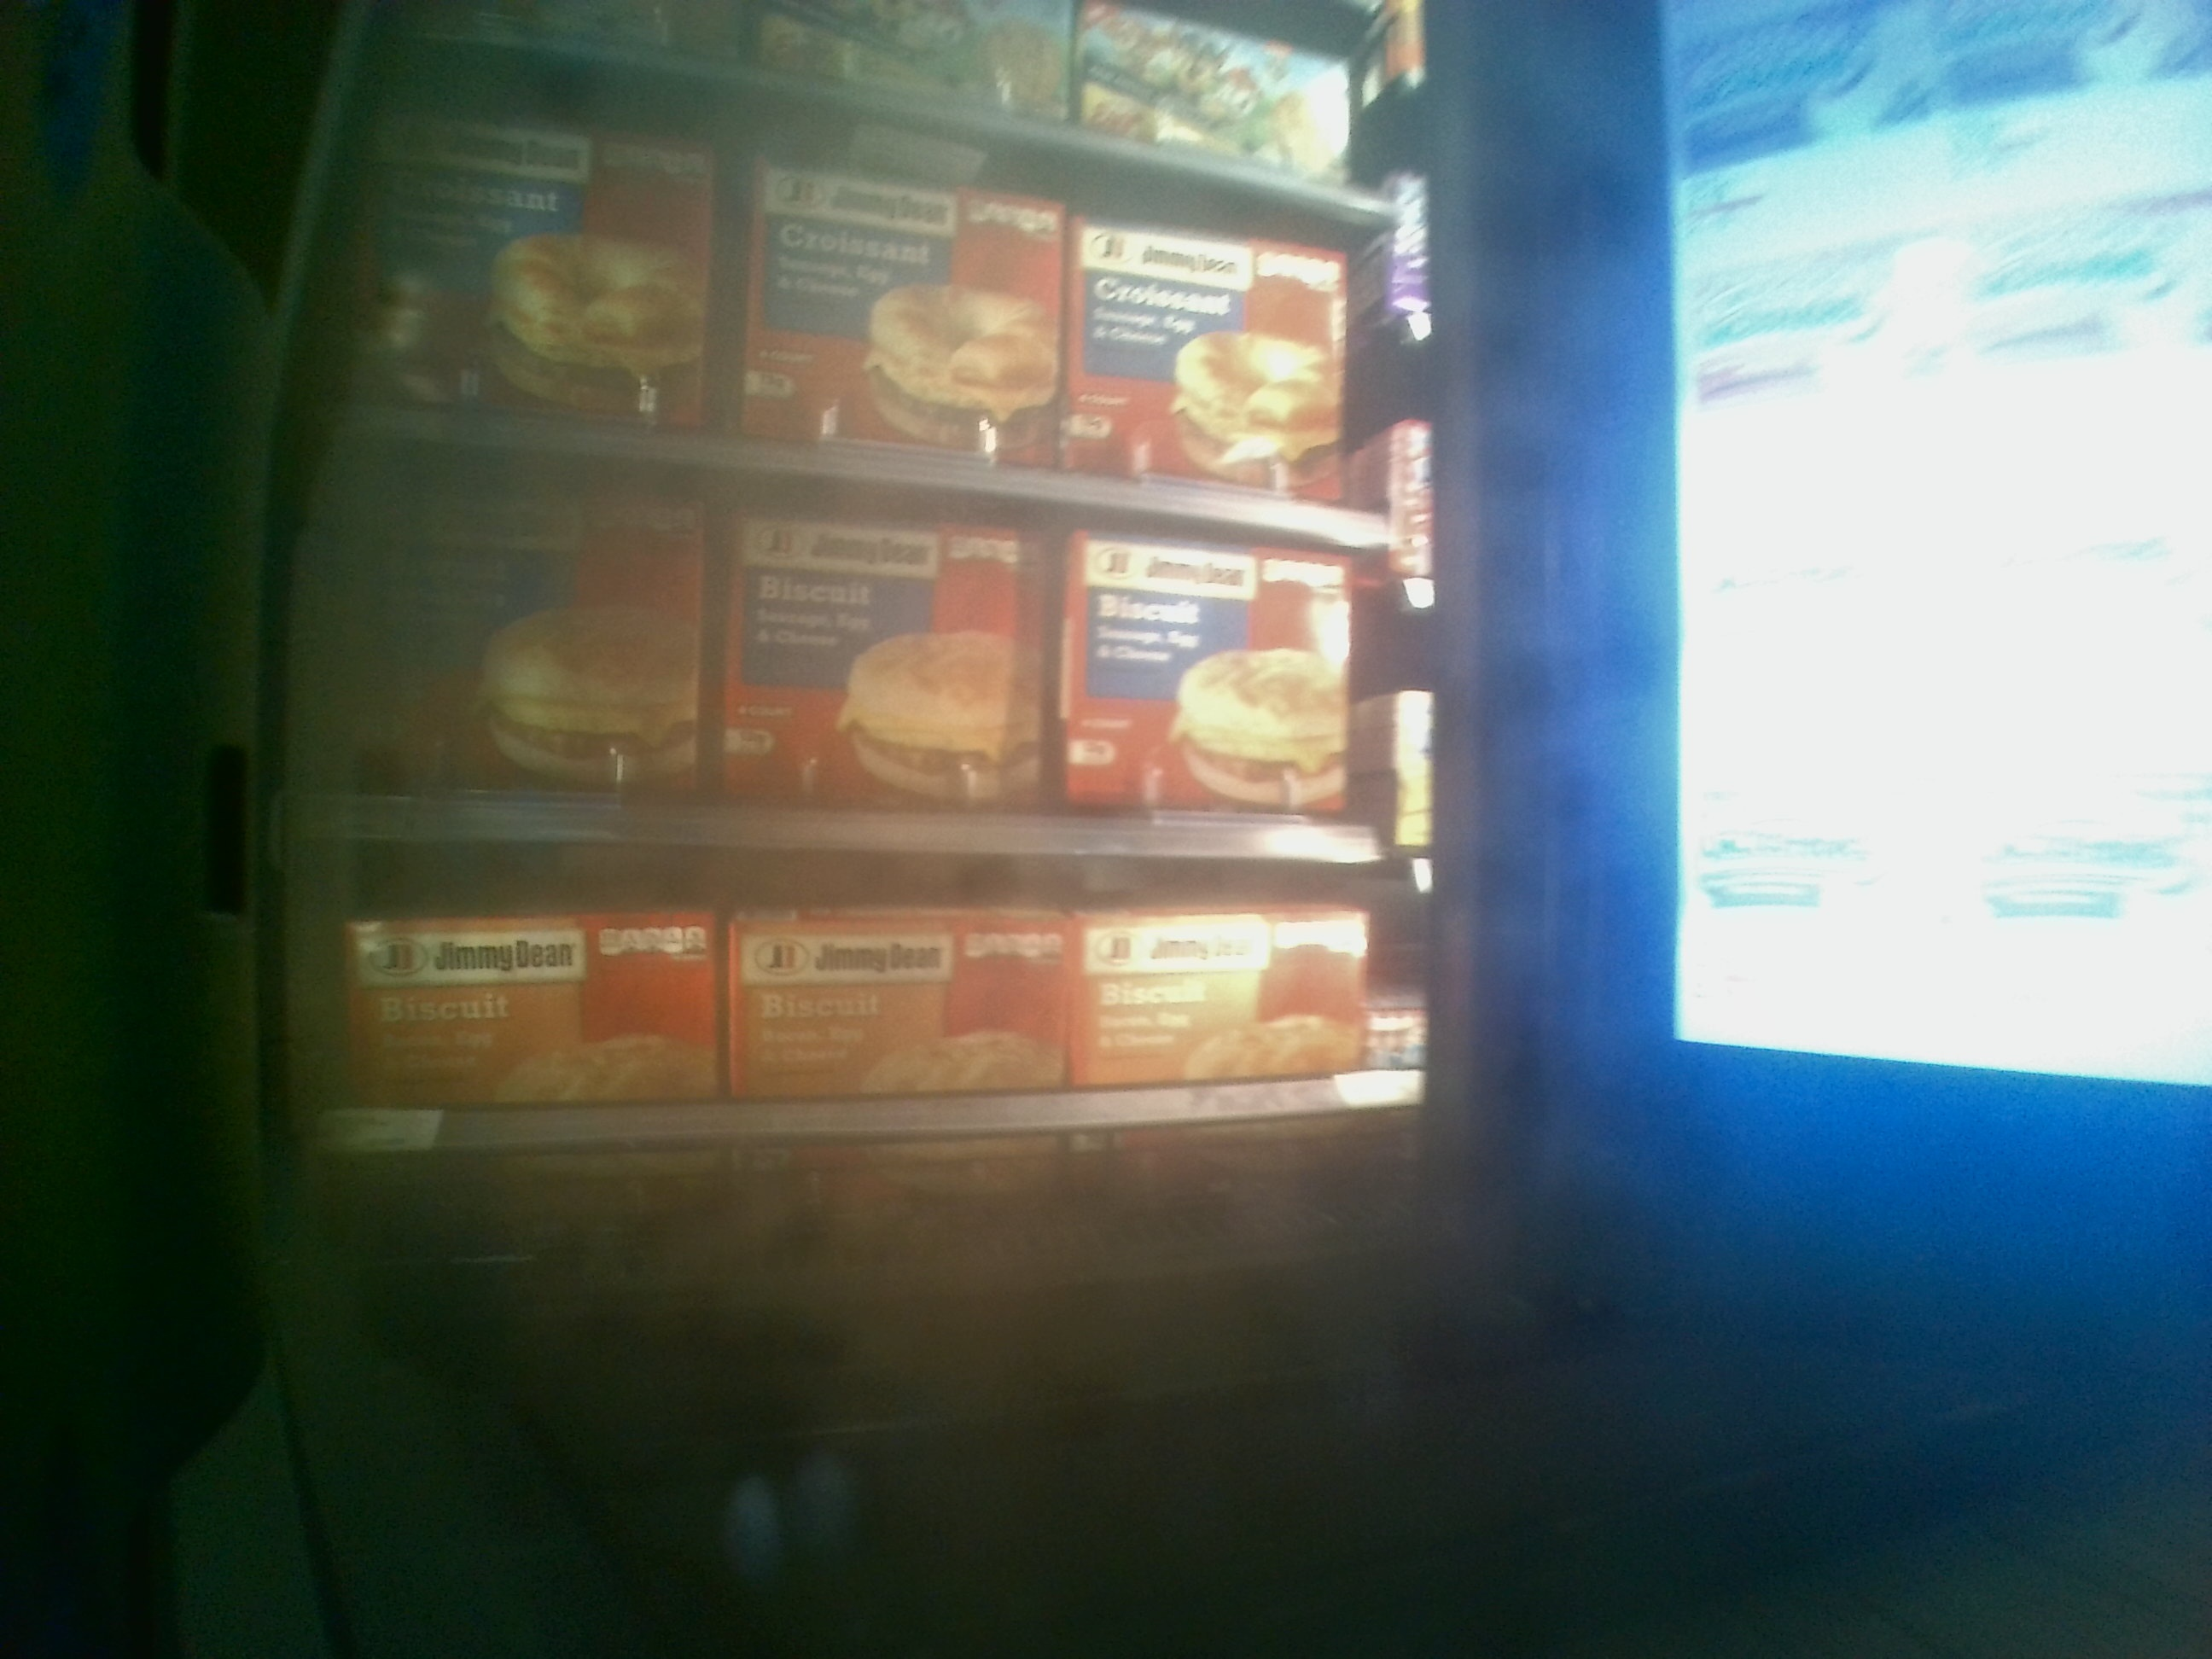shelf: (334, 430, 1430, 854), (315, 847, 1470, 1223)
